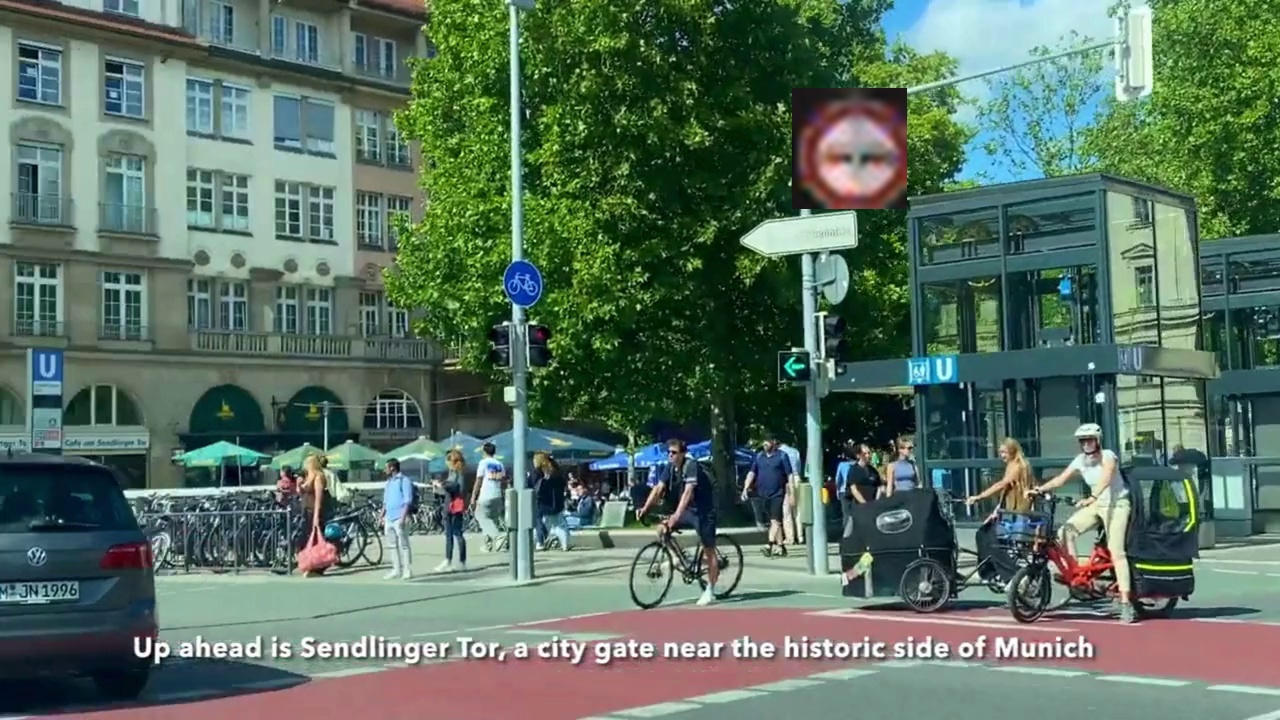No passing: (792, 88, 907, 209)
